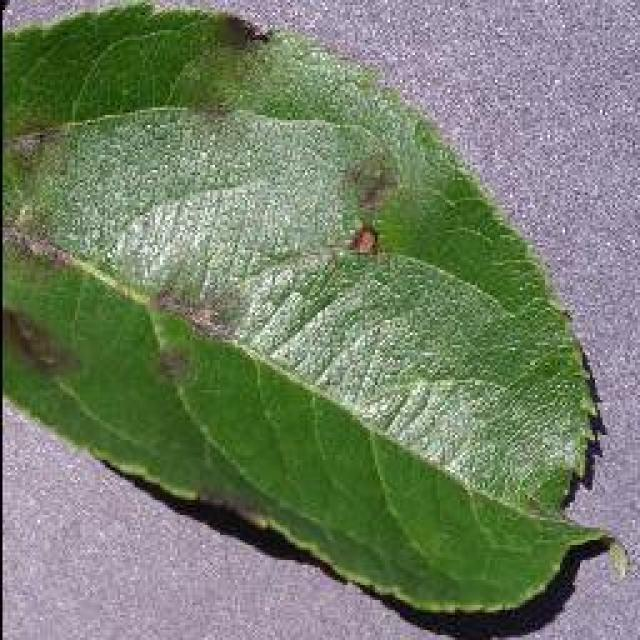apple scab disease: (0, 0, 625, 620)
